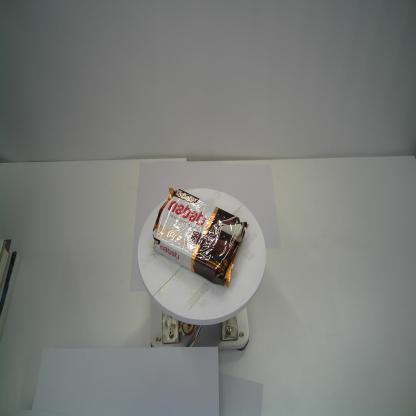Dessert: (153, 185, 249, 288)
